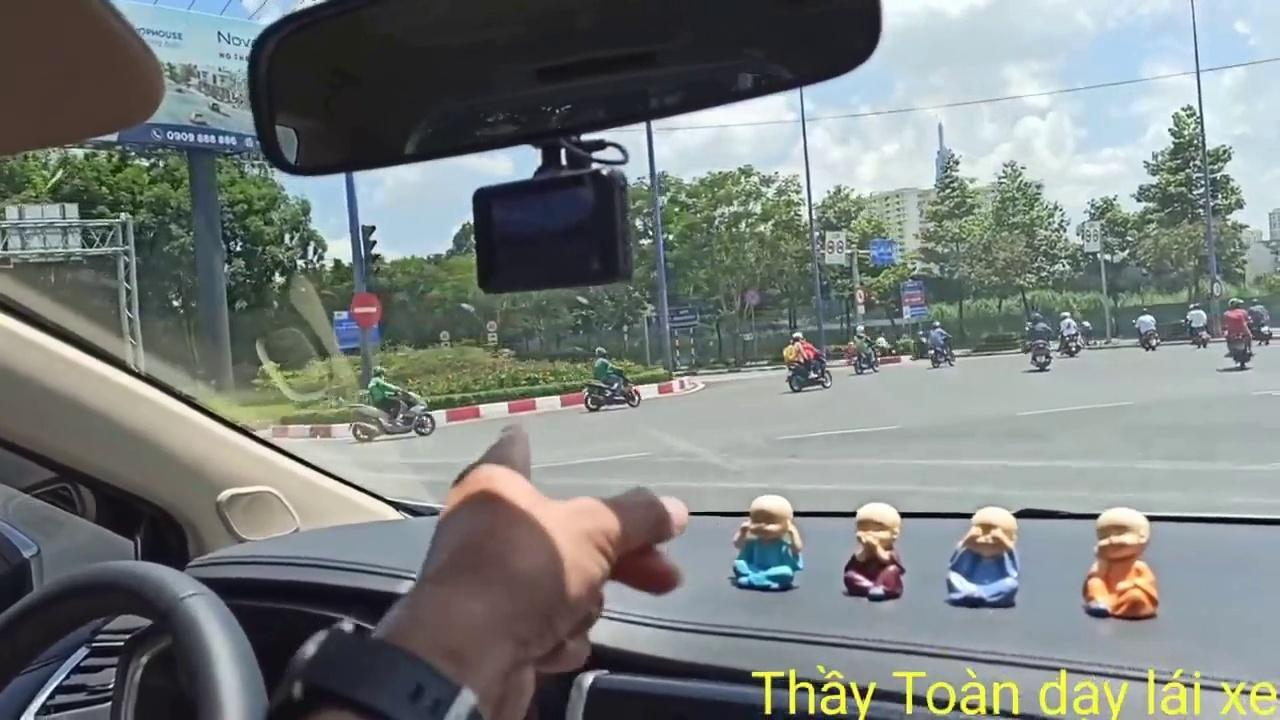Biển phụ: (488, 333, 498, 346)
Cấm cac phương tiện hoạt động trong khung giờ cố định: (826, 229, 848, 265)
Cấm dừng - Cấm đỗ: (742, 288, 761, 306)
Cấm đi ngược chiều: (348, 290, 384, 329)
Khác: (900, 279, 928, 323)
Làn đường cho từng xe: (867, 236, 896, 267)
